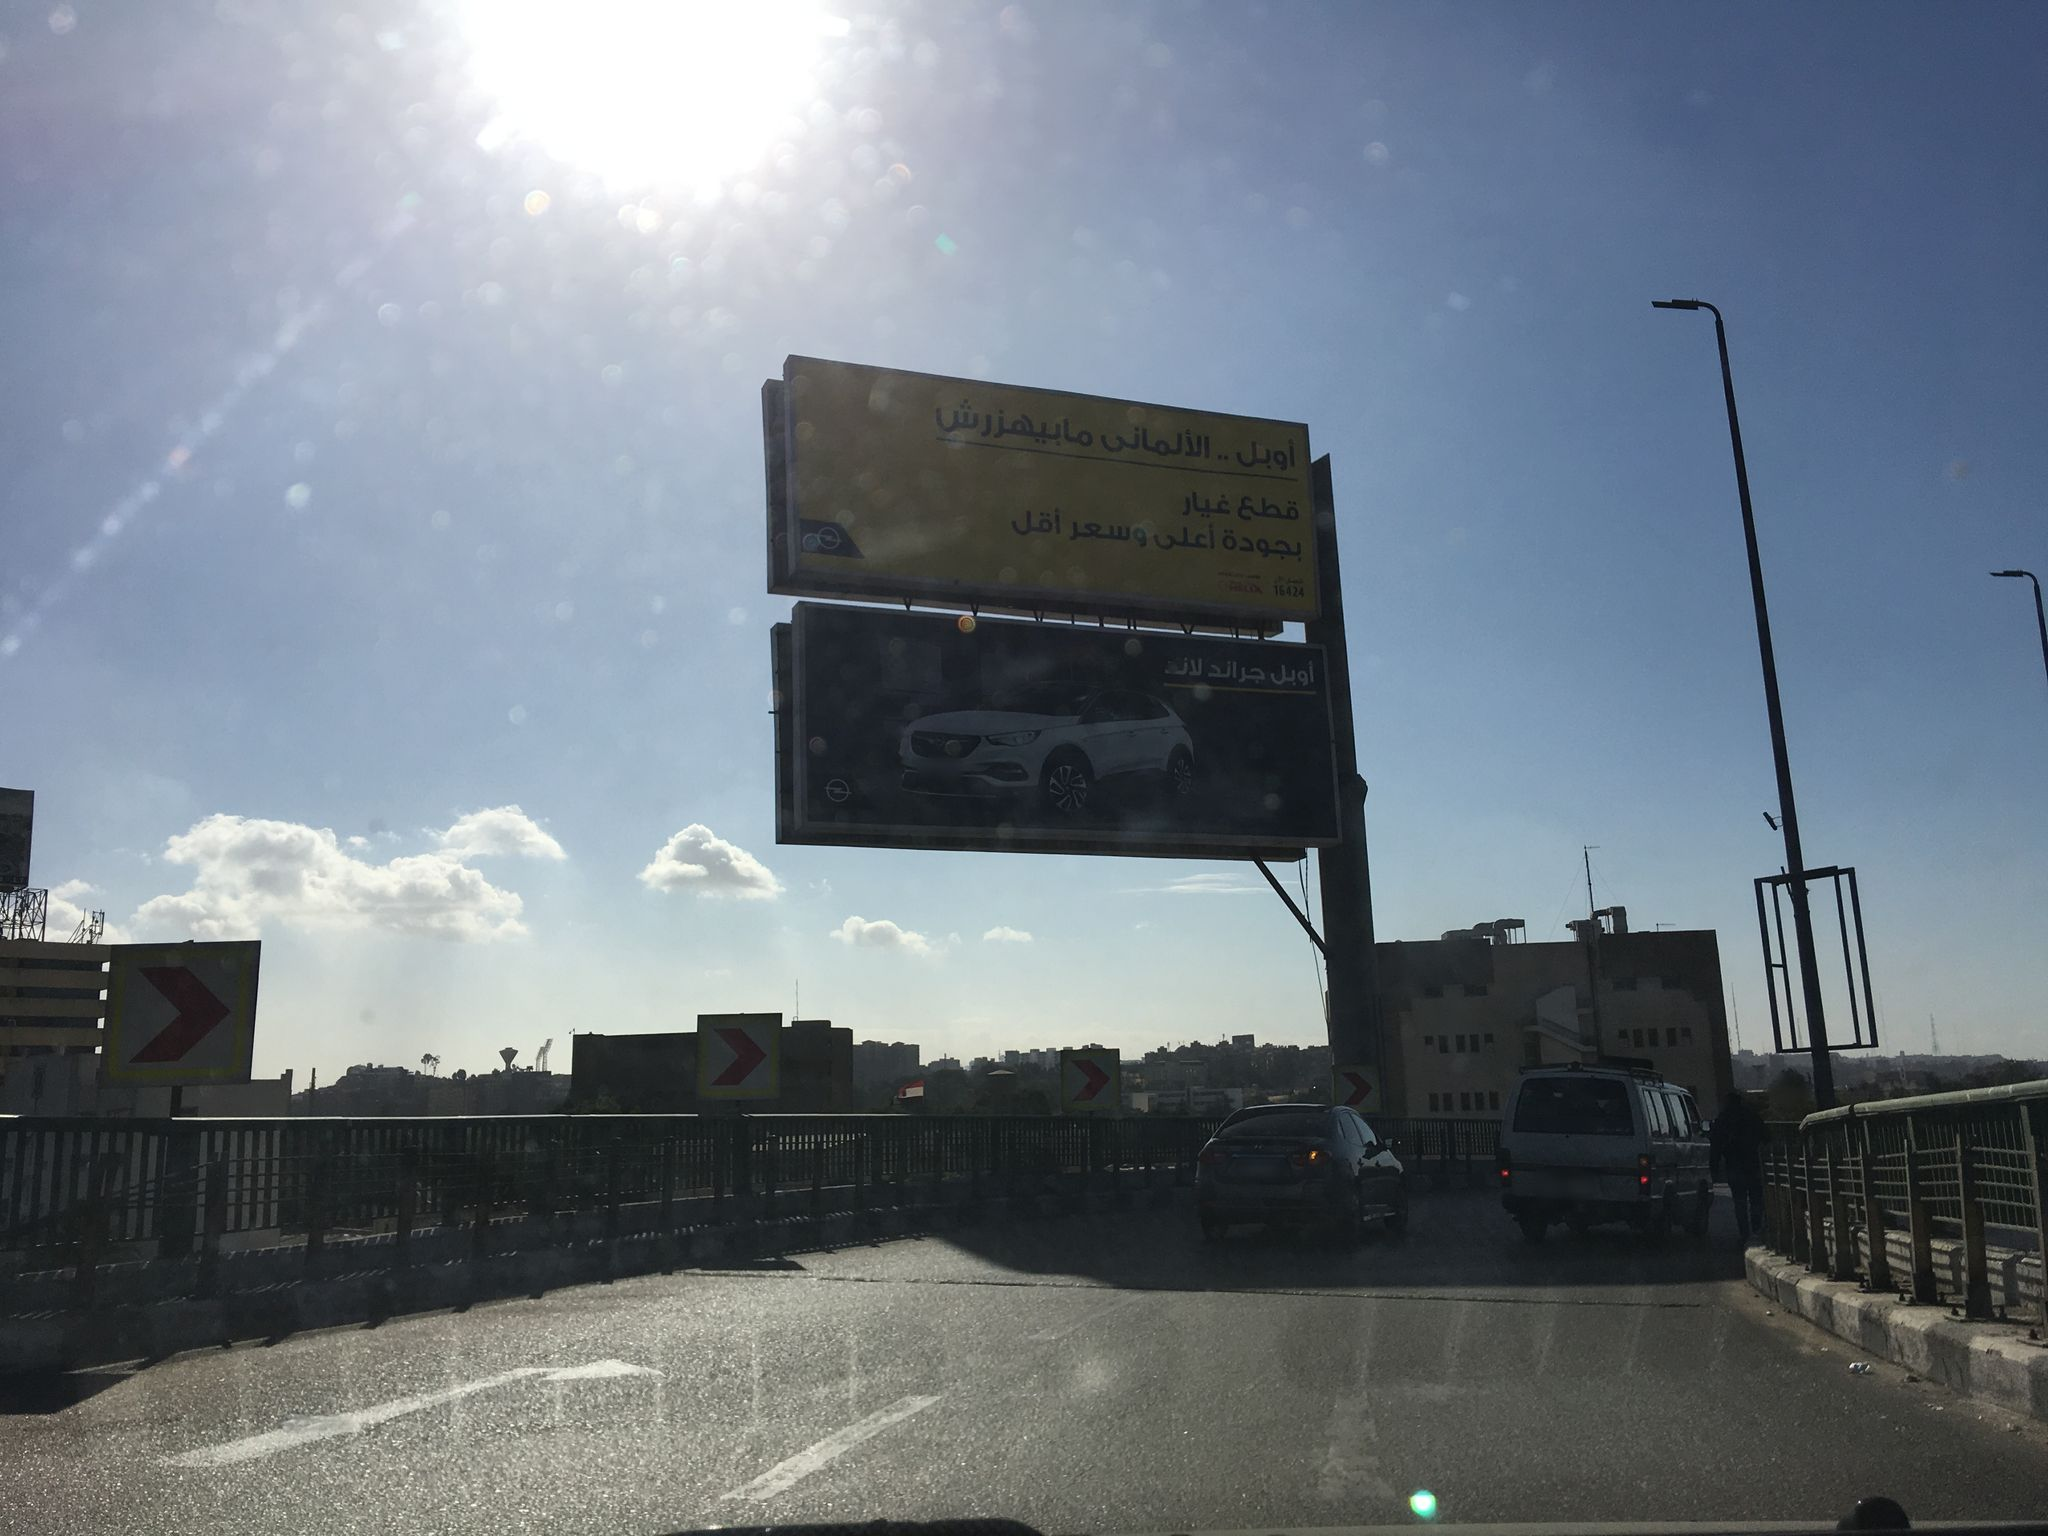car: (1498, 1063, 1717, 1249), (1193, 1102, 1411, 1249)
